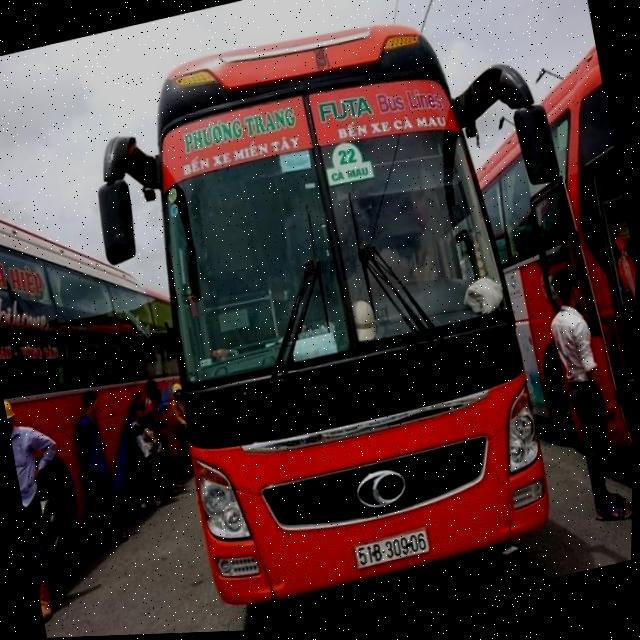car: (82, 0, 589, 637), (0, 38, 236, 640), (411, 0, 640, 558)
plate: (348, 523, 437, 574)
